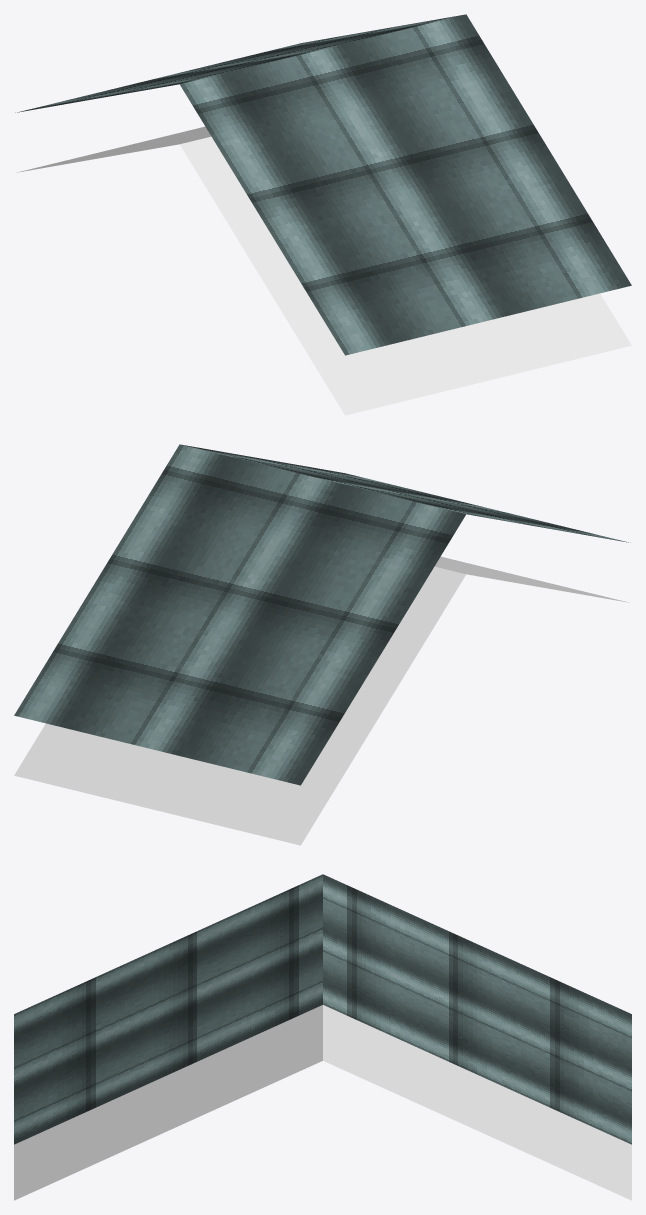
The model's file is roof_top_mid_1x2.glb.
3 views of the same model, one above another, from view 1: azimuth 30°, elevation 25°; view 2: azimuth 150°, elevation 25°; view 3: azimuth 270°, elevation 25° (orthographic). The views are drawn at different scales.
Parts seen in each view (by area): view 1: roof_top_mid_1x2; view 2: roof_top_mid_1x2; view 3: roof_top_mid_1x2.
Part boxes in pixels (x1=…): roof_top_mid_1x2: x1=15, y1=14, x2=631, y2=415; roof_top_mid_1x2: x1=14, y1=444, x2=630, y2=845; roof_top_mid_1x2: x1=14, y1=874, x2=631, y2=1200.
Bounding box in the file's own units: 1 × 0.7 × 2.
Materials: 2 (1 with a texture image).
